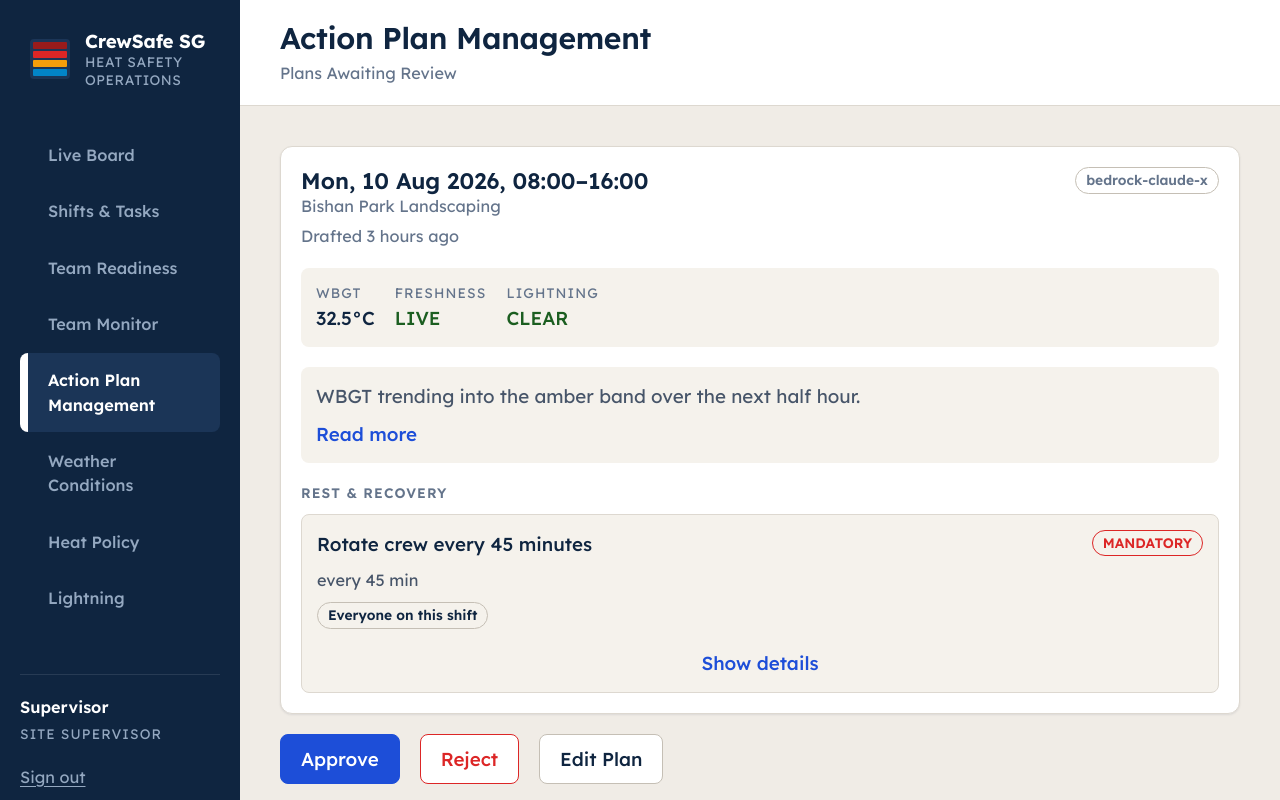
Test: ApprovalsPage › approves a recommendation and removes its card
Click the button "Approve" at x=340, y=759, box [280,734,400,784]
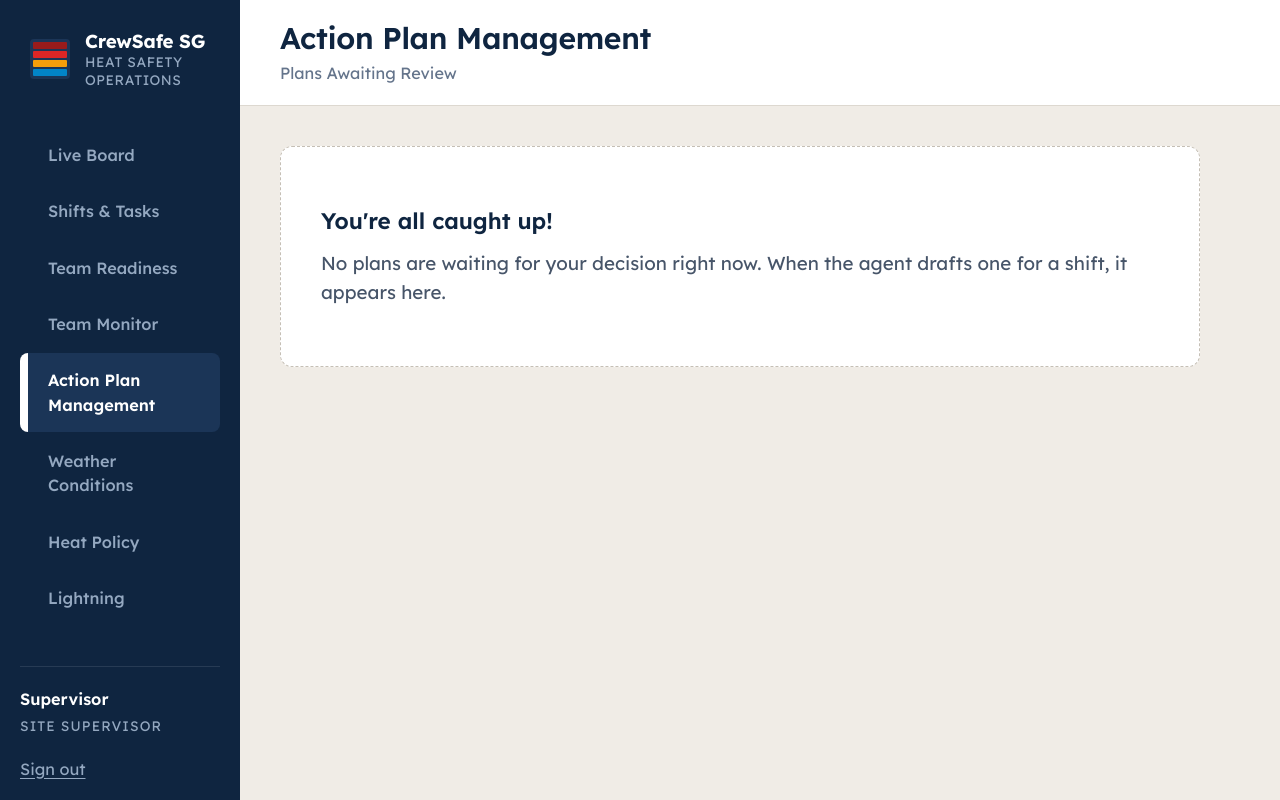
Check: the heading "You're all caught up!" is shown, box [321,207,553,234]
